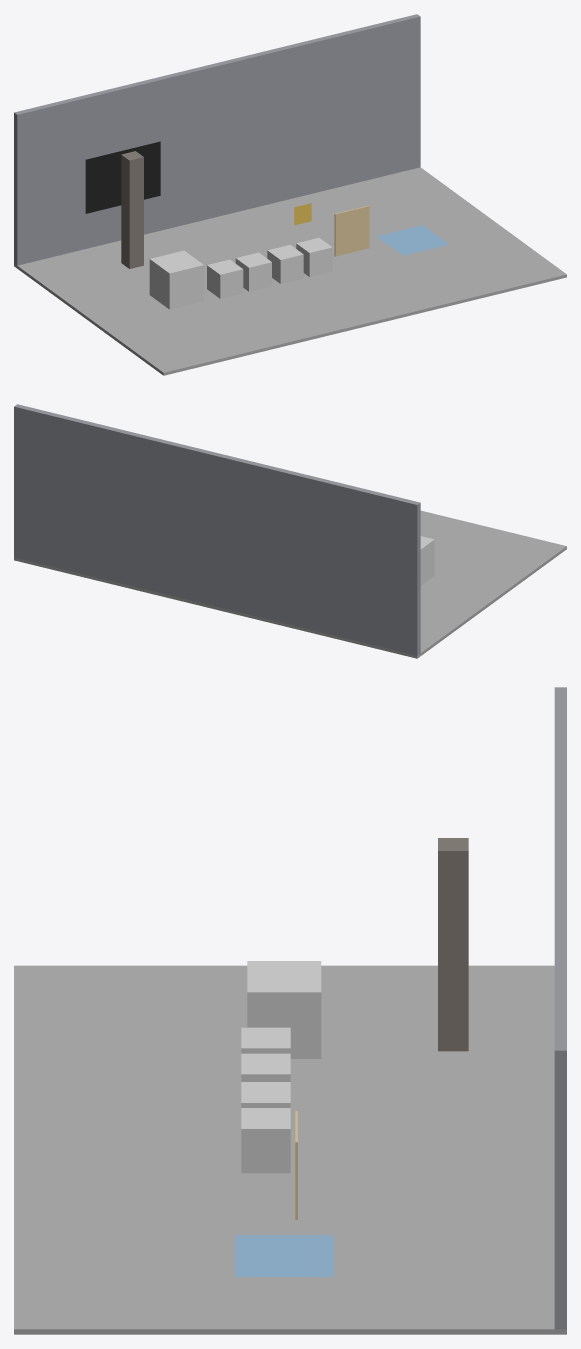
File: shader_hooks_fixture.gltf
3 renders of one model, top to bottom at view 1: azimuth 30°, elevation 25°; view 2: azimuth 150°, elevation 25°; view 3: azimuth 270°, elevation 25°, orthographic. The views are drawn at different scales.
Parts seen in each view (by area): view 1: wall, floor, static, stripes, post, card, dome, key_a, param_a, param_b, key_b; view 2: wall, floor, stripes; view 3: floor, wall, post, stripes, dome, param_b, key_b, key_a, param_a.
Part boxes in pixels (bbox=[...]): wall: bbox=[14, 14, 420, 265]; floor: bbox=[14, 167, 566, 375]; static: bbox=[85, 141, 160, 213]; stripes: bbox=[149, 250, 204, 309]; post: bbox=[121, 151, 143, 268]; card: bbox=[334, 205, 369, 256]; dome: bbox=[377, 225, 448, 255]; key_a: bbox=[207, 259, 243, 298]; param_a: bbox=[267, 244, 303, 283]; param_b: bbox=[296, 238, 332, 276]; key_b: bbox=[235, 252, 271, 291]; wall: bbox=[14, 404, 420, 655]; floor: bbox=[14, 510, 566, 658]; stripes: bbox=[420, 536, 434, 585]; floor: bbox=[14, 965, 566, 1334]; wall: bbox=[554, 687, 566, 1329]; post: bbox=[438, 838, 468, 1051]; stripes: bbox=[247, 961, 321, 1058]; dome: bbox=[235, 1235, 333, 1276]; param_b: bbox=[241, 1108, 290, 1173]; key_b: bbox=[241, 1053, 290, 1081]; key_a: bbox=[241, 1027, 290, 1053]; param_a: bbox=[241, 1082, 290, 1107].
Bounding box in the file's own units: 14 × 5.1 × 9.
